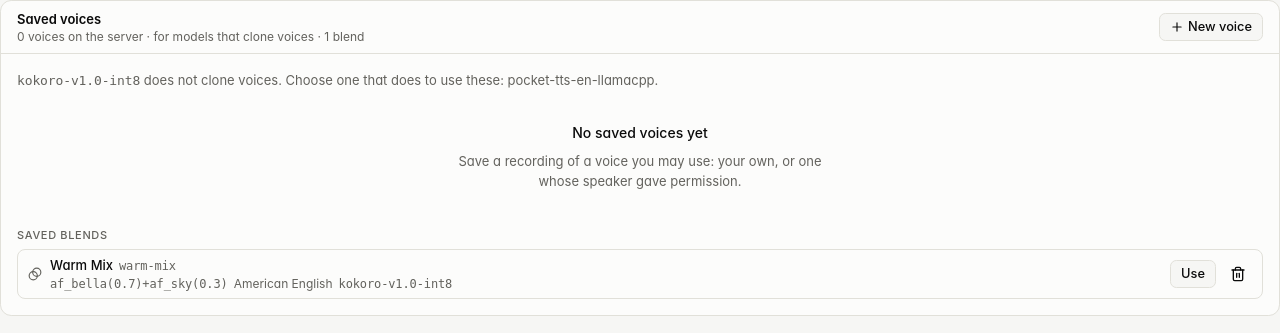
saved blends › lists blends apart from the recordings, without consent, and uses or deletes one
Expected: the list item with test id "blend-warm-mix" shows "af_bella(0.7)+af_sky(0.3)", x1=50 y1=276 x2=228 y2=290
Click the button with test id "use-blend-warm-mix": (1193, 274) x1=1170 y1=260 x2=1216 y2=288
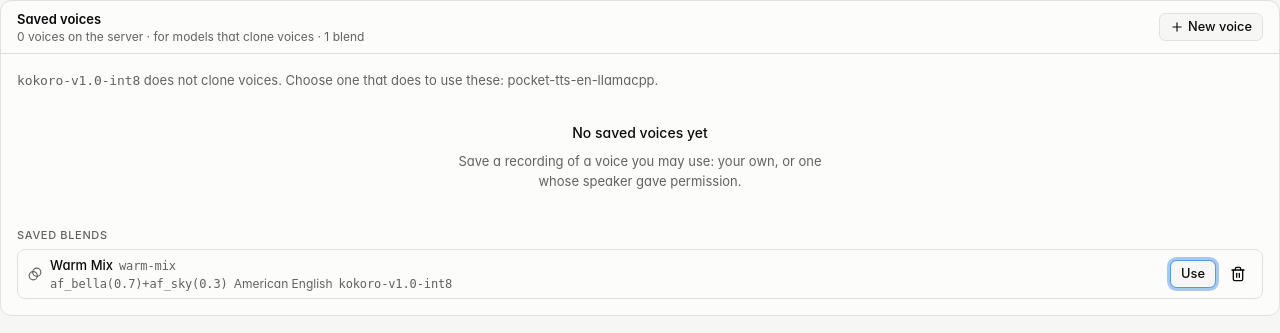
Expected: the text "warm-mix" is shown, x1=119 y1=258 x2=176 y2=274
Click the button named "Delete Warm Mix": (1238, 274) x1=1224 y1=260 x2=1252 y2=288
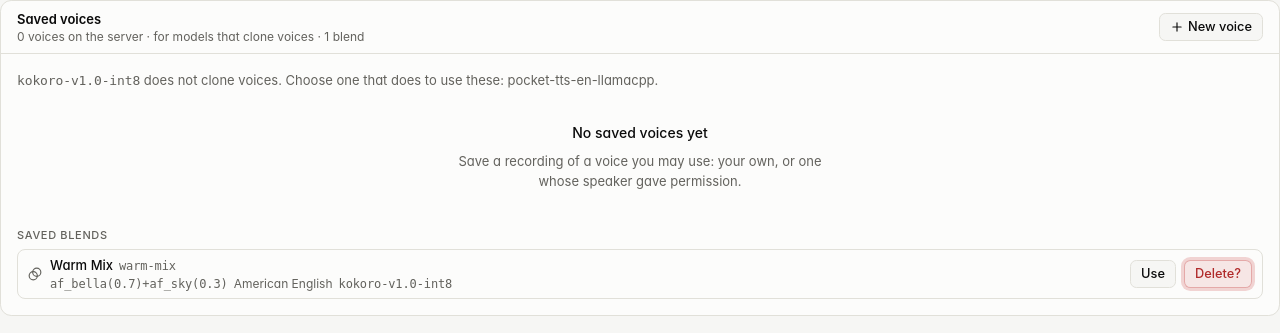
Click the button with aria-label "Confirm deleting Warm Mix": (1218, 274) x1=1184 y1=260 x2=1252 y2=288
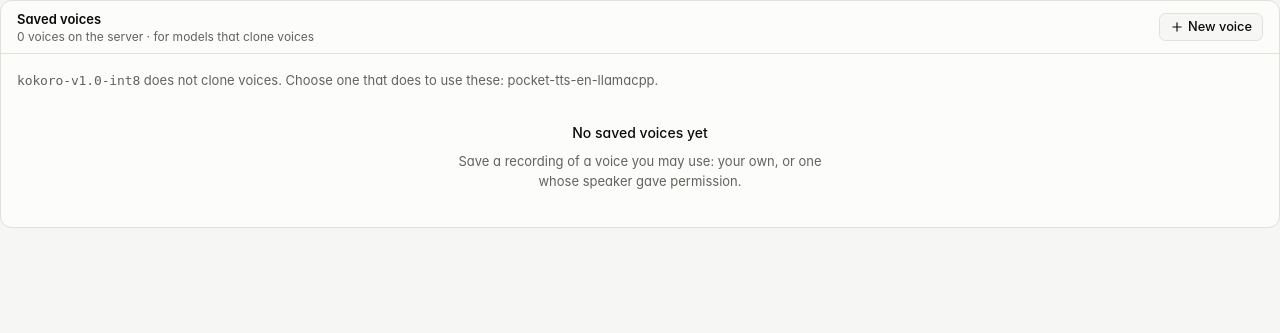
Now the list item with test id "blend-warm-mix" is gone
